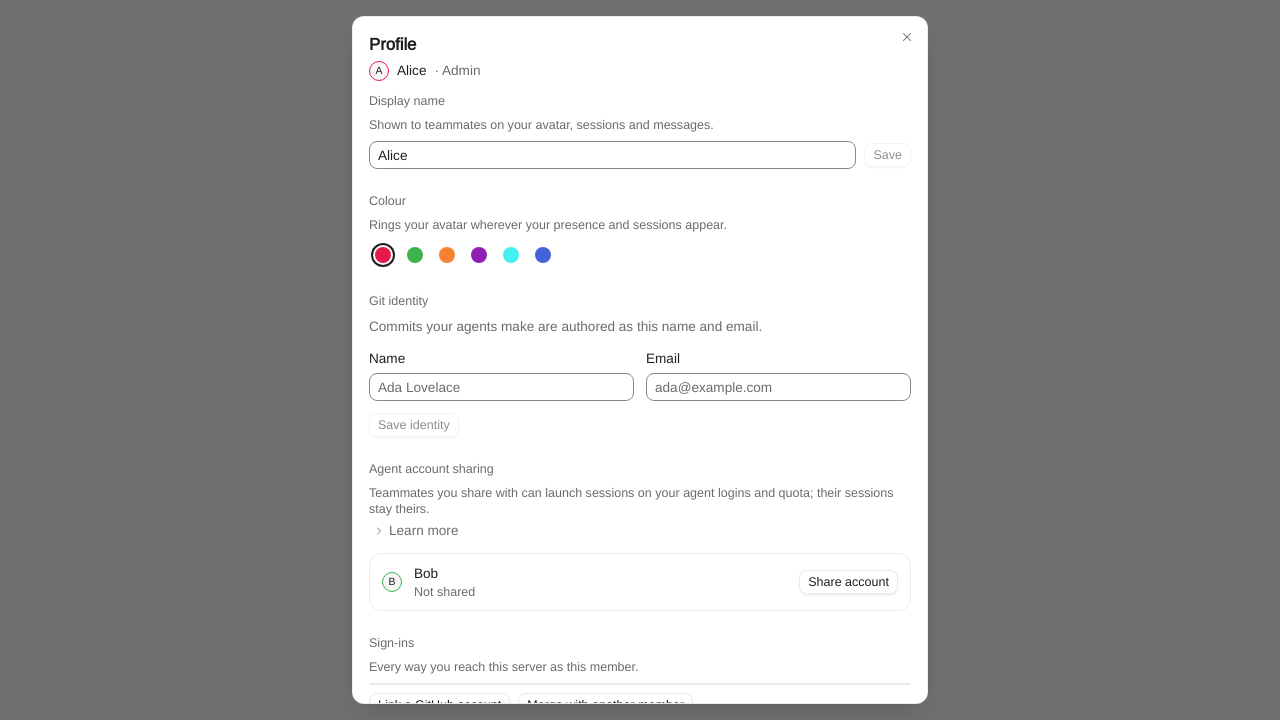
profile dialog › after a first share › offers to stop a terminal started before the share
Click the 4th button named "Share account". click: (849, 582)
box: [799, 570, 898, 594]
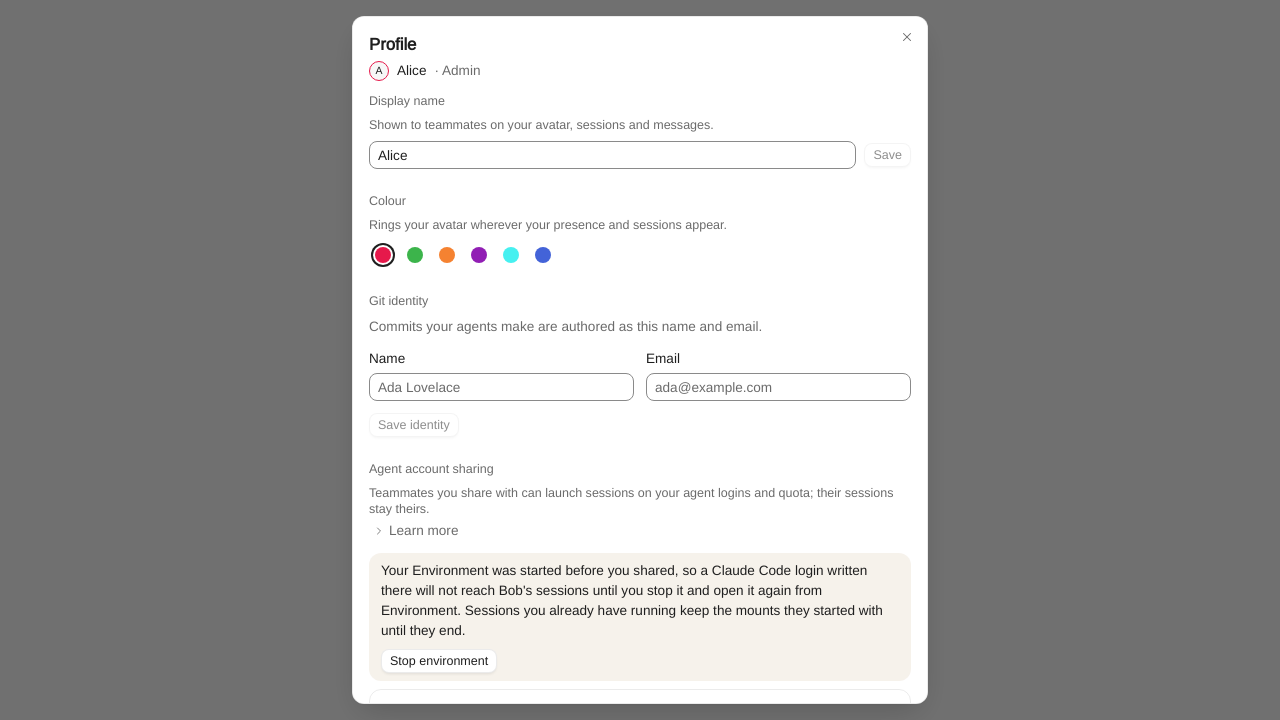
Click the 4th button named "Stop environment". click: (439, 661)
box: [381, 649, 497, 673]
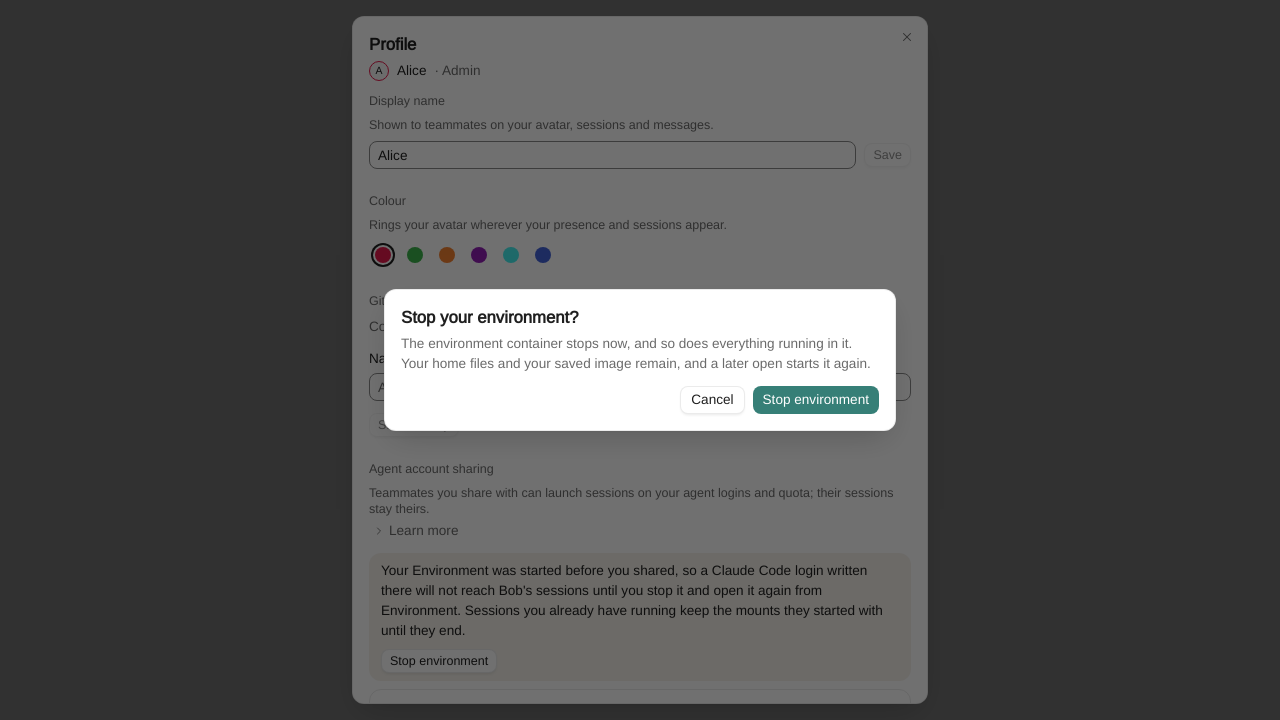
Expected: the text "so does everything running in it" is shown, [401, 335, 871, 372]
Click the 2nd button named "Stop environment". click: (816, 400)
box: [753, 386, 879, 414]
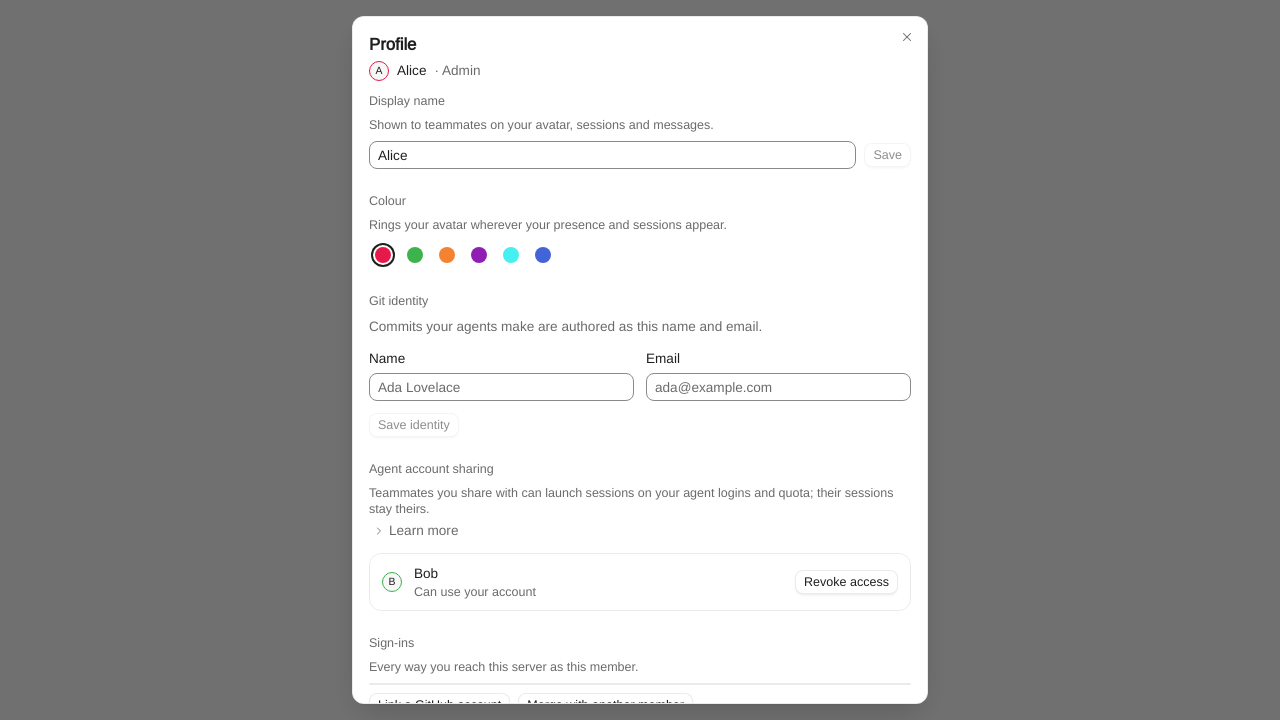
Expected: the message is gone
